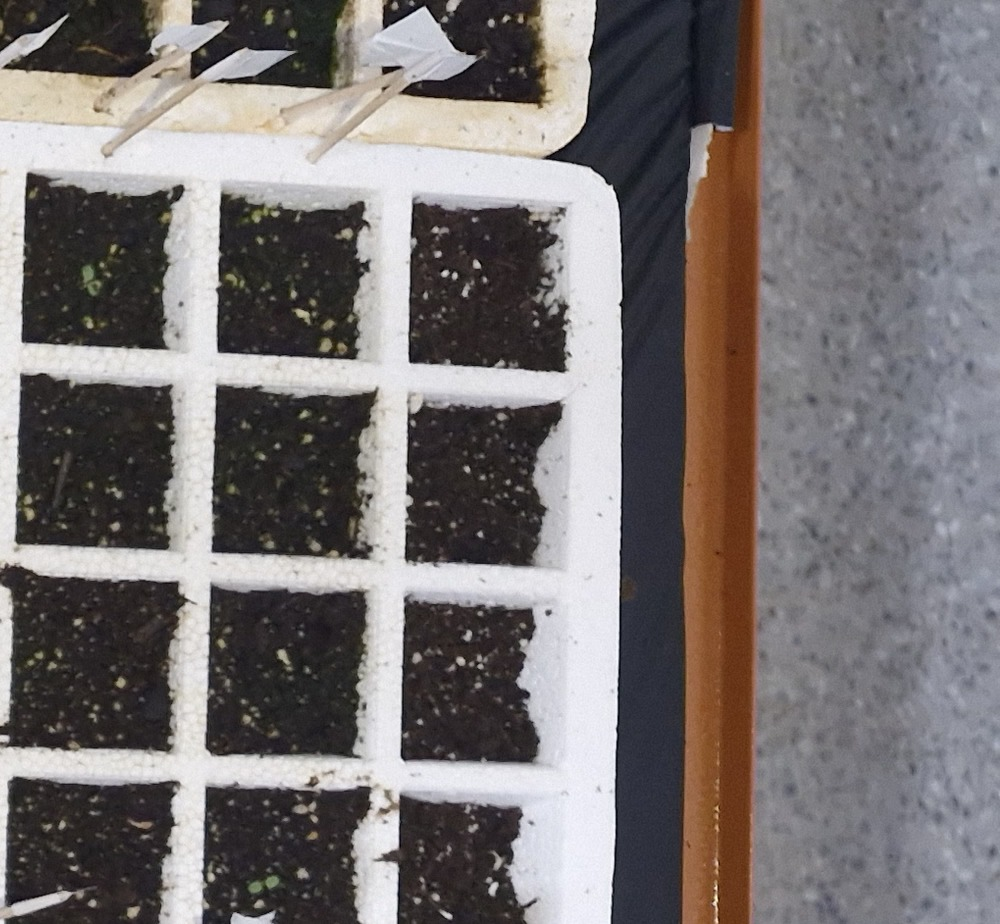Folha: (88, 280, 102, 295), (248, 882, 262, 894), (266, 875, 279, 887), (82, 267, 93, 280)
Germinacao: (81, 265, 103, 297), (248, 876, 279, 893)
